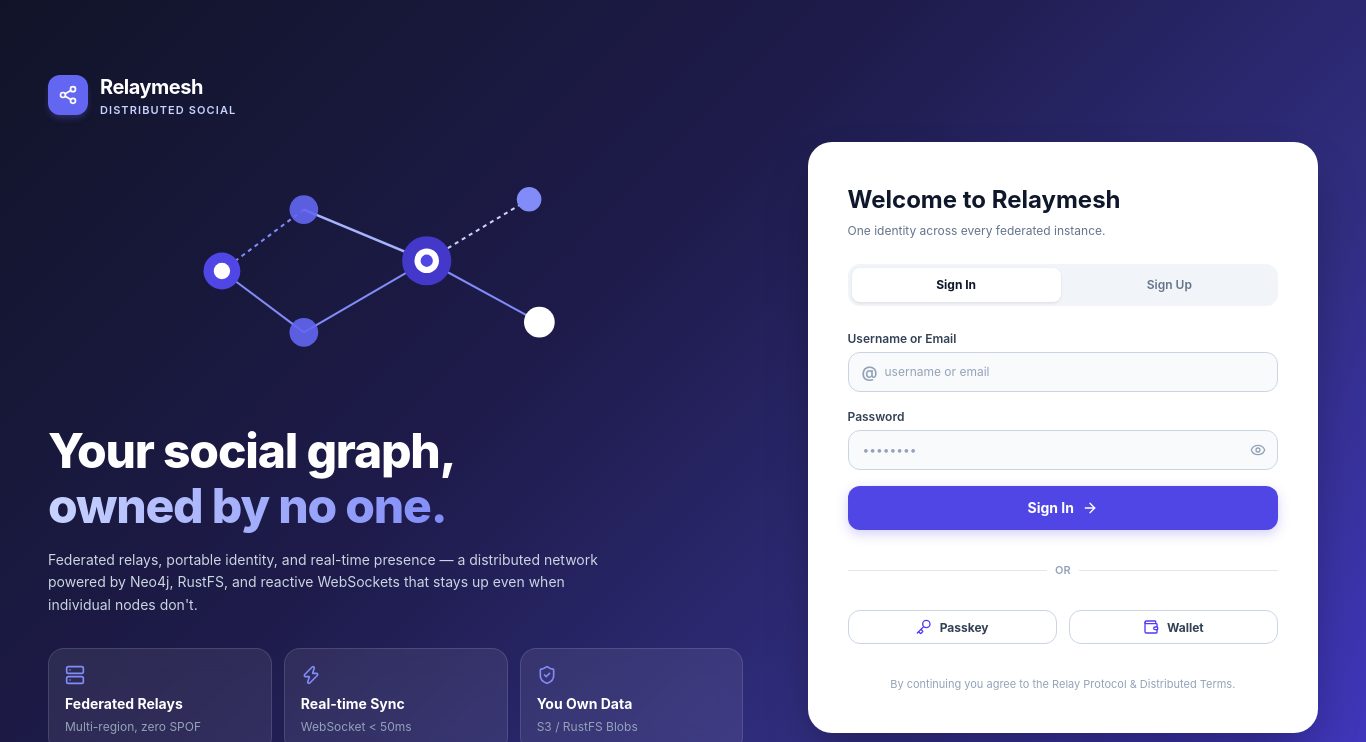
Test case: AuthPage Component › switches to Sign Up tab when Sign Up button is clicked
Click the tab "Sign Up".
click(1169, 285)  # box [1065,268,1274,302]
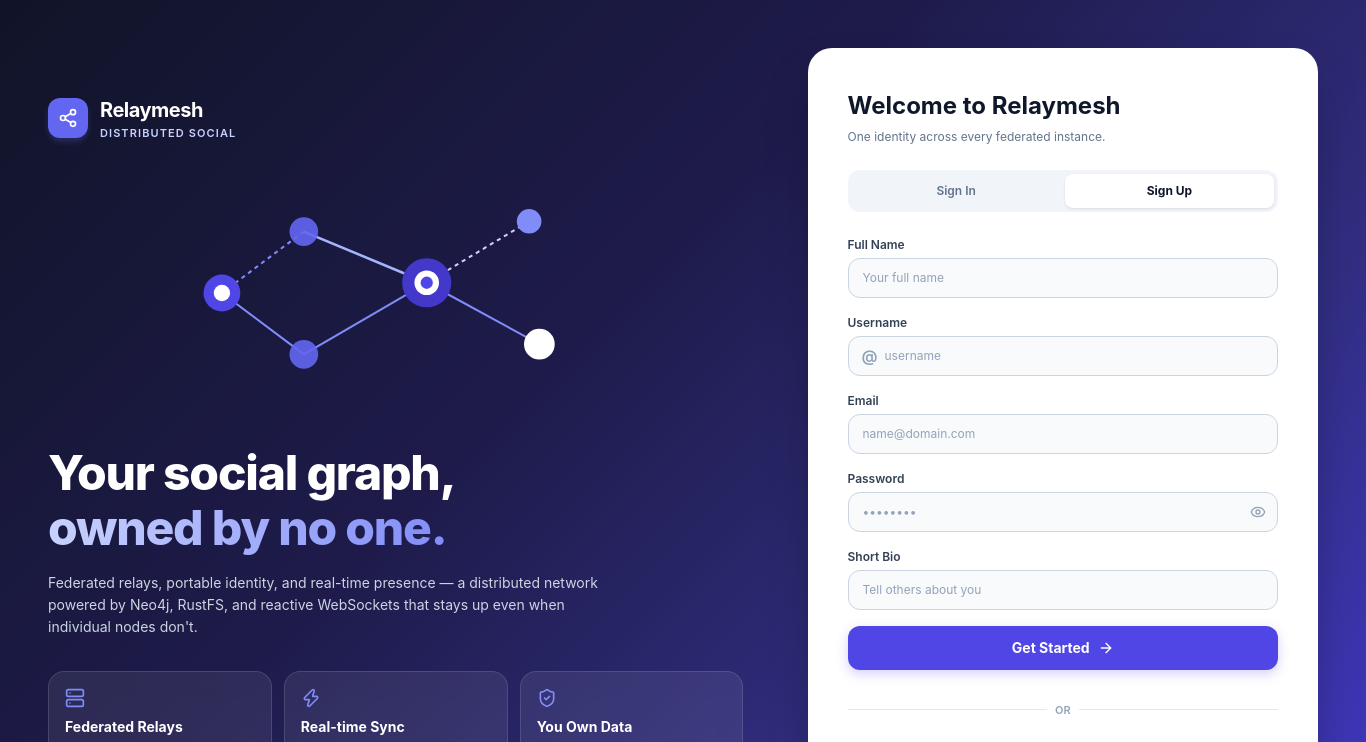
Expected: the text "Full Name" is shown, [848,237,905,252]
Expected: the field with placeholder "Your full name" is shown, [848,258,1278,298]
Expected: the text "Short Bio" is shown, [848,549,901,564]
